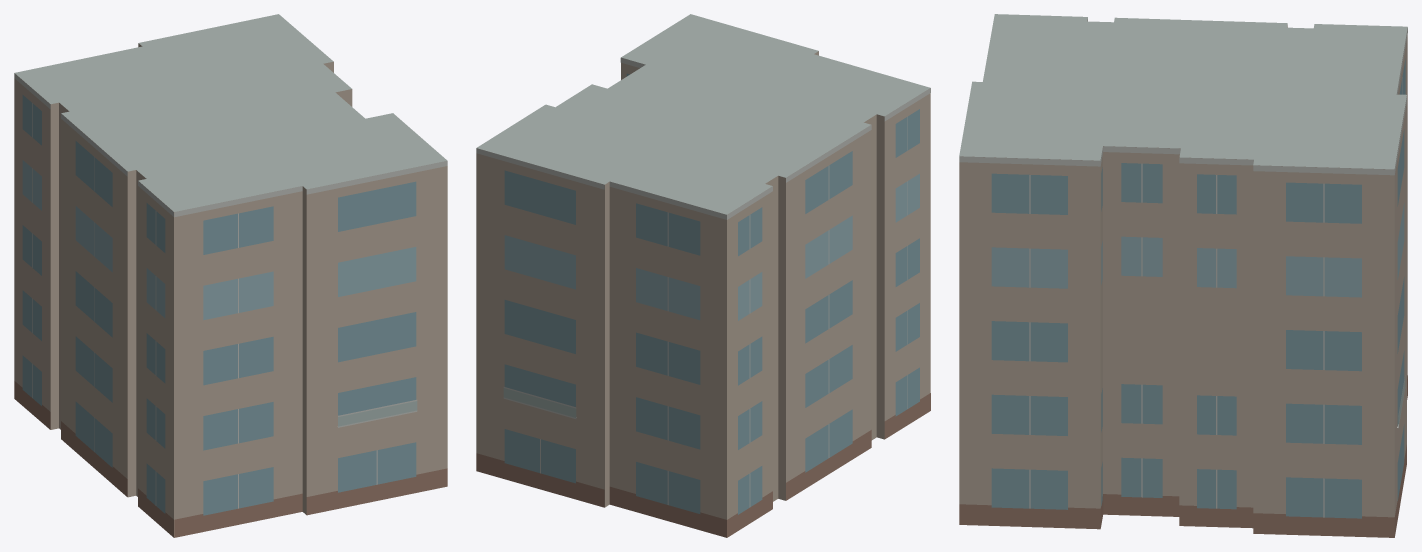
File: survey-upis-32768146.glb
The picture shows the model from 3 angles, left to right: view 1: azimuth 30°, elevation 25°; view 2: azimuth 150°, elevation 25°; view 3: azimuth 270°, elevation 25°; orthographic projection. The views are drawn at different scales.
Visible parts, largest first — view 1: survey-upis-32768146.tmp; view 2: survey-upis-32768146.tmp; view 3: survey-upis-32768146.tmp.
Part boxes in pixels (x1,y1,x2,y2): survey-upis-32768146.tmp: [14, 14, 447, 537]; survey-upis-32768146.tmp: [476, 14, 930, 537]; survey-upis-32768146.tmp: [959, 14, 1407, 537].
Size of the model in its own units: 13.8 by 15.25 by 16.84.
